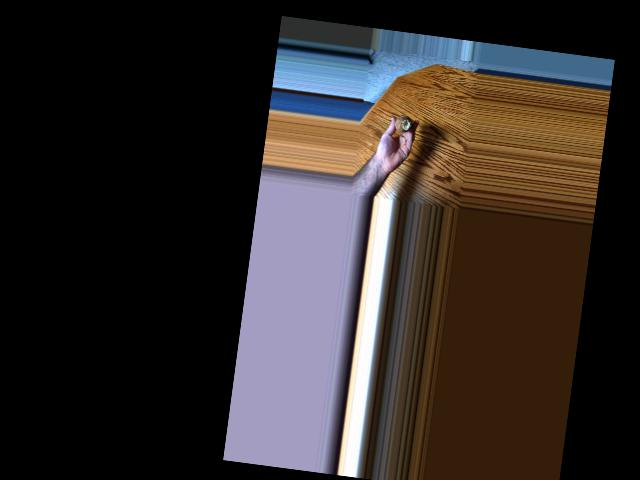sweet_potato: (392, 113, 412, 131)
